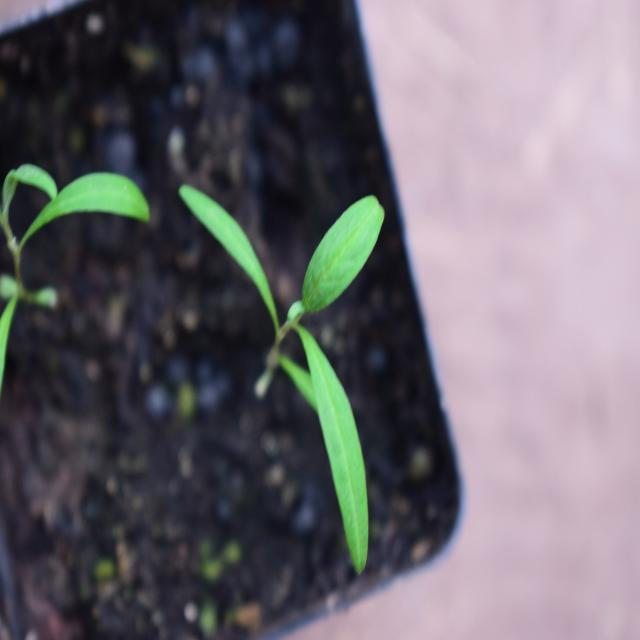white_smart_weed: (183, 161, 418, 575)
